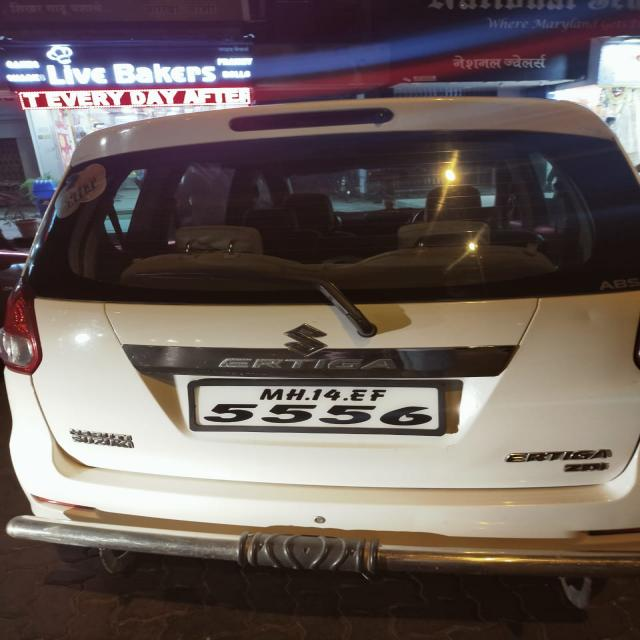Number-Plate: (0, 394, 342, 532), (192, 380, 442, 433)
